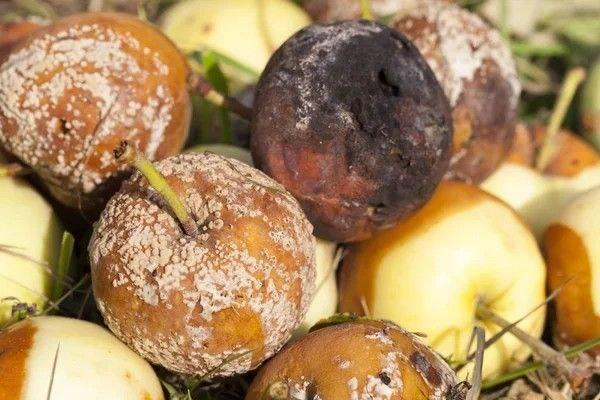Apple: (91, 155, 314, 374), (244, 23, 452, 240), (1, 13, 200, 196)
